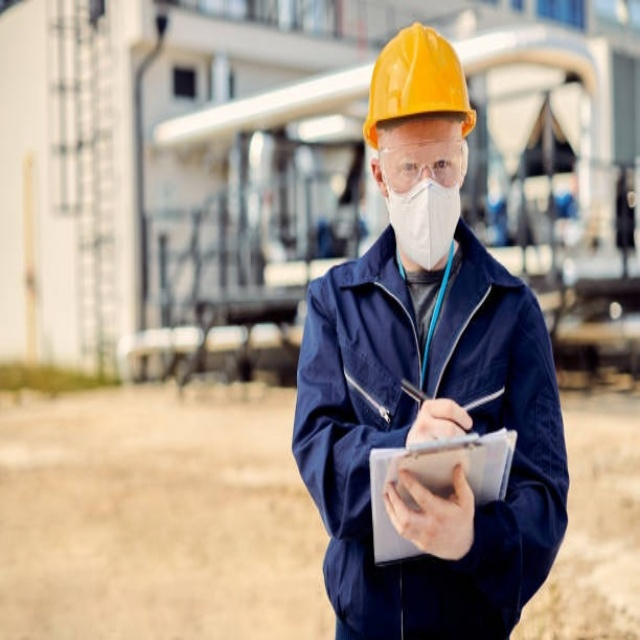Gafas: (378, 135, 470, 202)
Mascara: (384, 163, 462, 271)
Sin_guantes: (383, 456, 476, 563), (406, 397, 475, 453)
